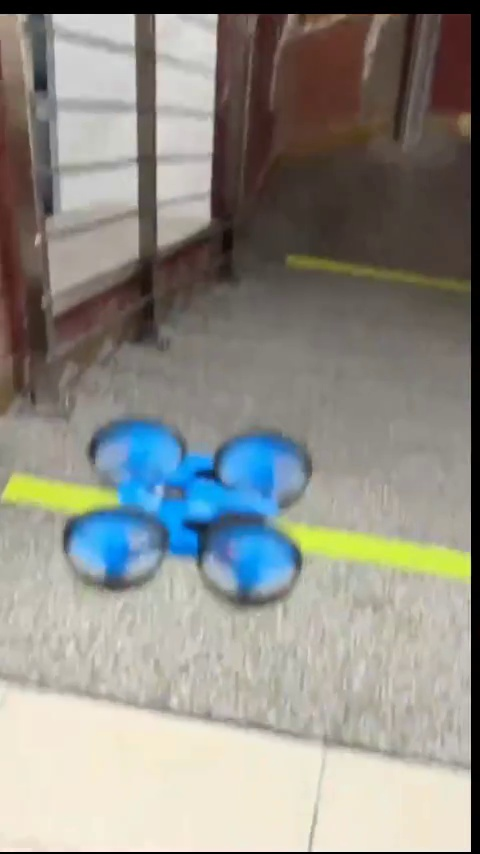drone: (69, 420, 312, 601)
